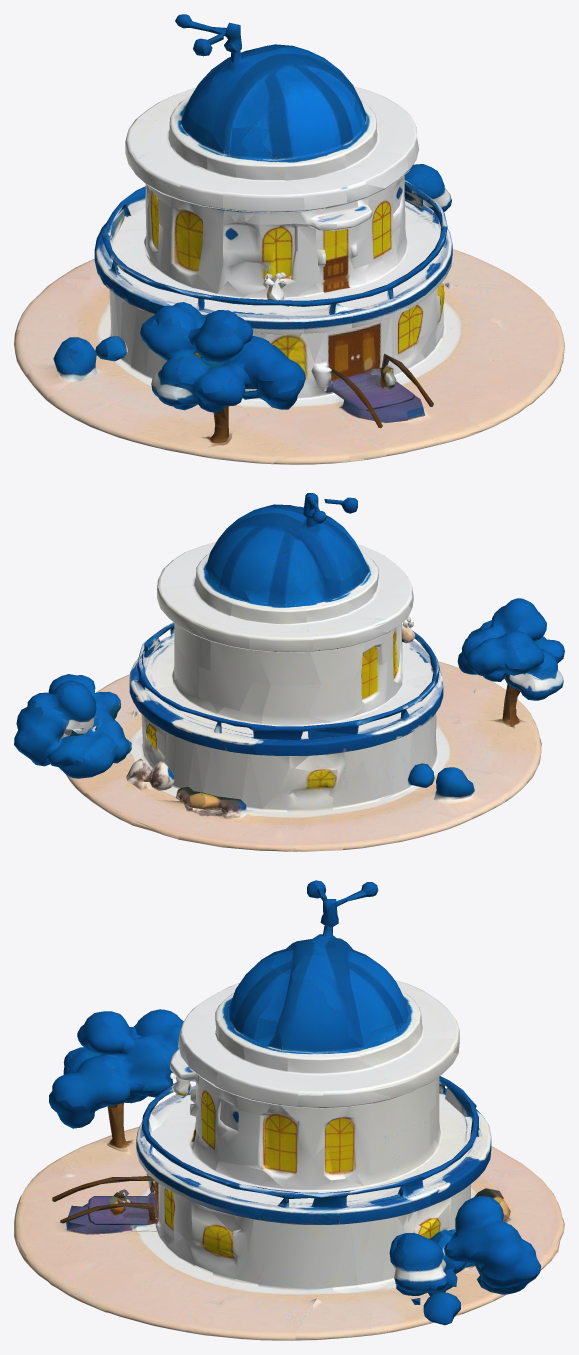
3 renders of one model, top to bottom at view 1: azimuth 30°, elevation 25°; view 2: azimuth 150°, elevation 25°; view 3: azimuth 270°, elevation 25°, orthographic. The views are drawn at different scales.
Bounding box in the file's own units: 1.87 × 1.19 × 1.91.
1 material, 1 textured.
